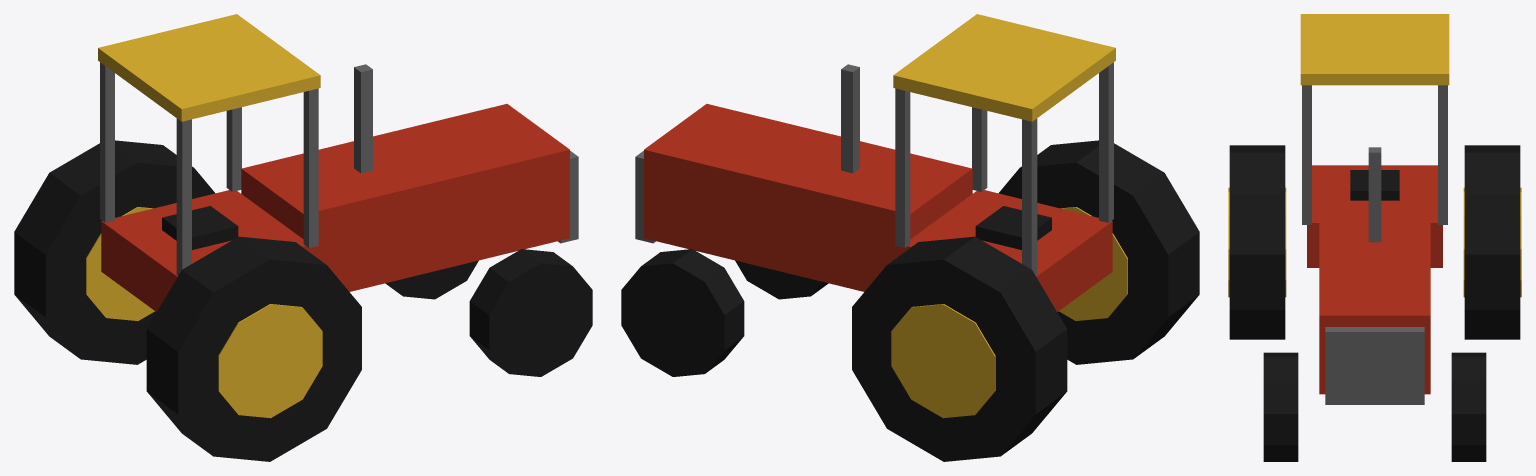
Rendered from trator.glb.
3 renders of one model, left to right at view 1: azimuth 30°, elevation 25°; view 2: azimuth 150°, elevation 25°; view 3: azimuth 270°, elevation 25°, orthographic. The views are drawn at different scales.
Parts seen in each view (by area): view 1: trator; view 2: trator; view 3: trator.
Part boxes in pixels (x1=…): trator: x1=14, y1=14, x2=592, y2=461; trator: x1=621, y1=14, x2=1199, y2=461; trator: x1=1228, y1=14, x2=1521, y2=461.
Size of the model in its own units: 3.76 by 2.65 by 2.37.
